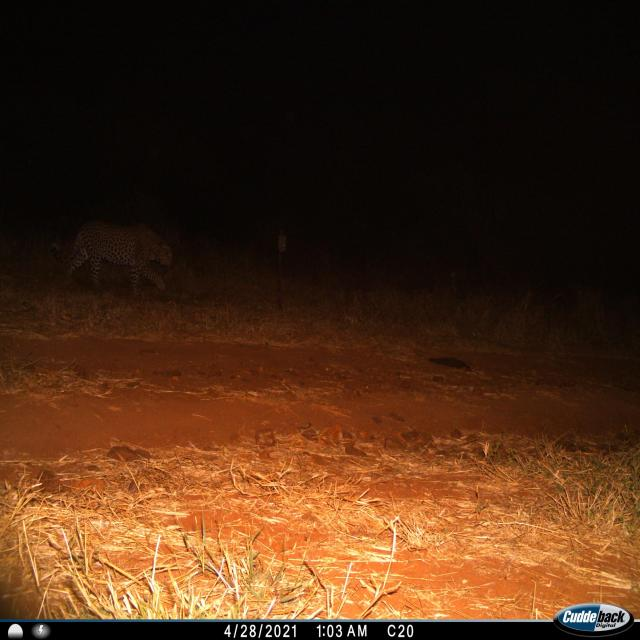Leopard: (50, 226, 178, 300)
